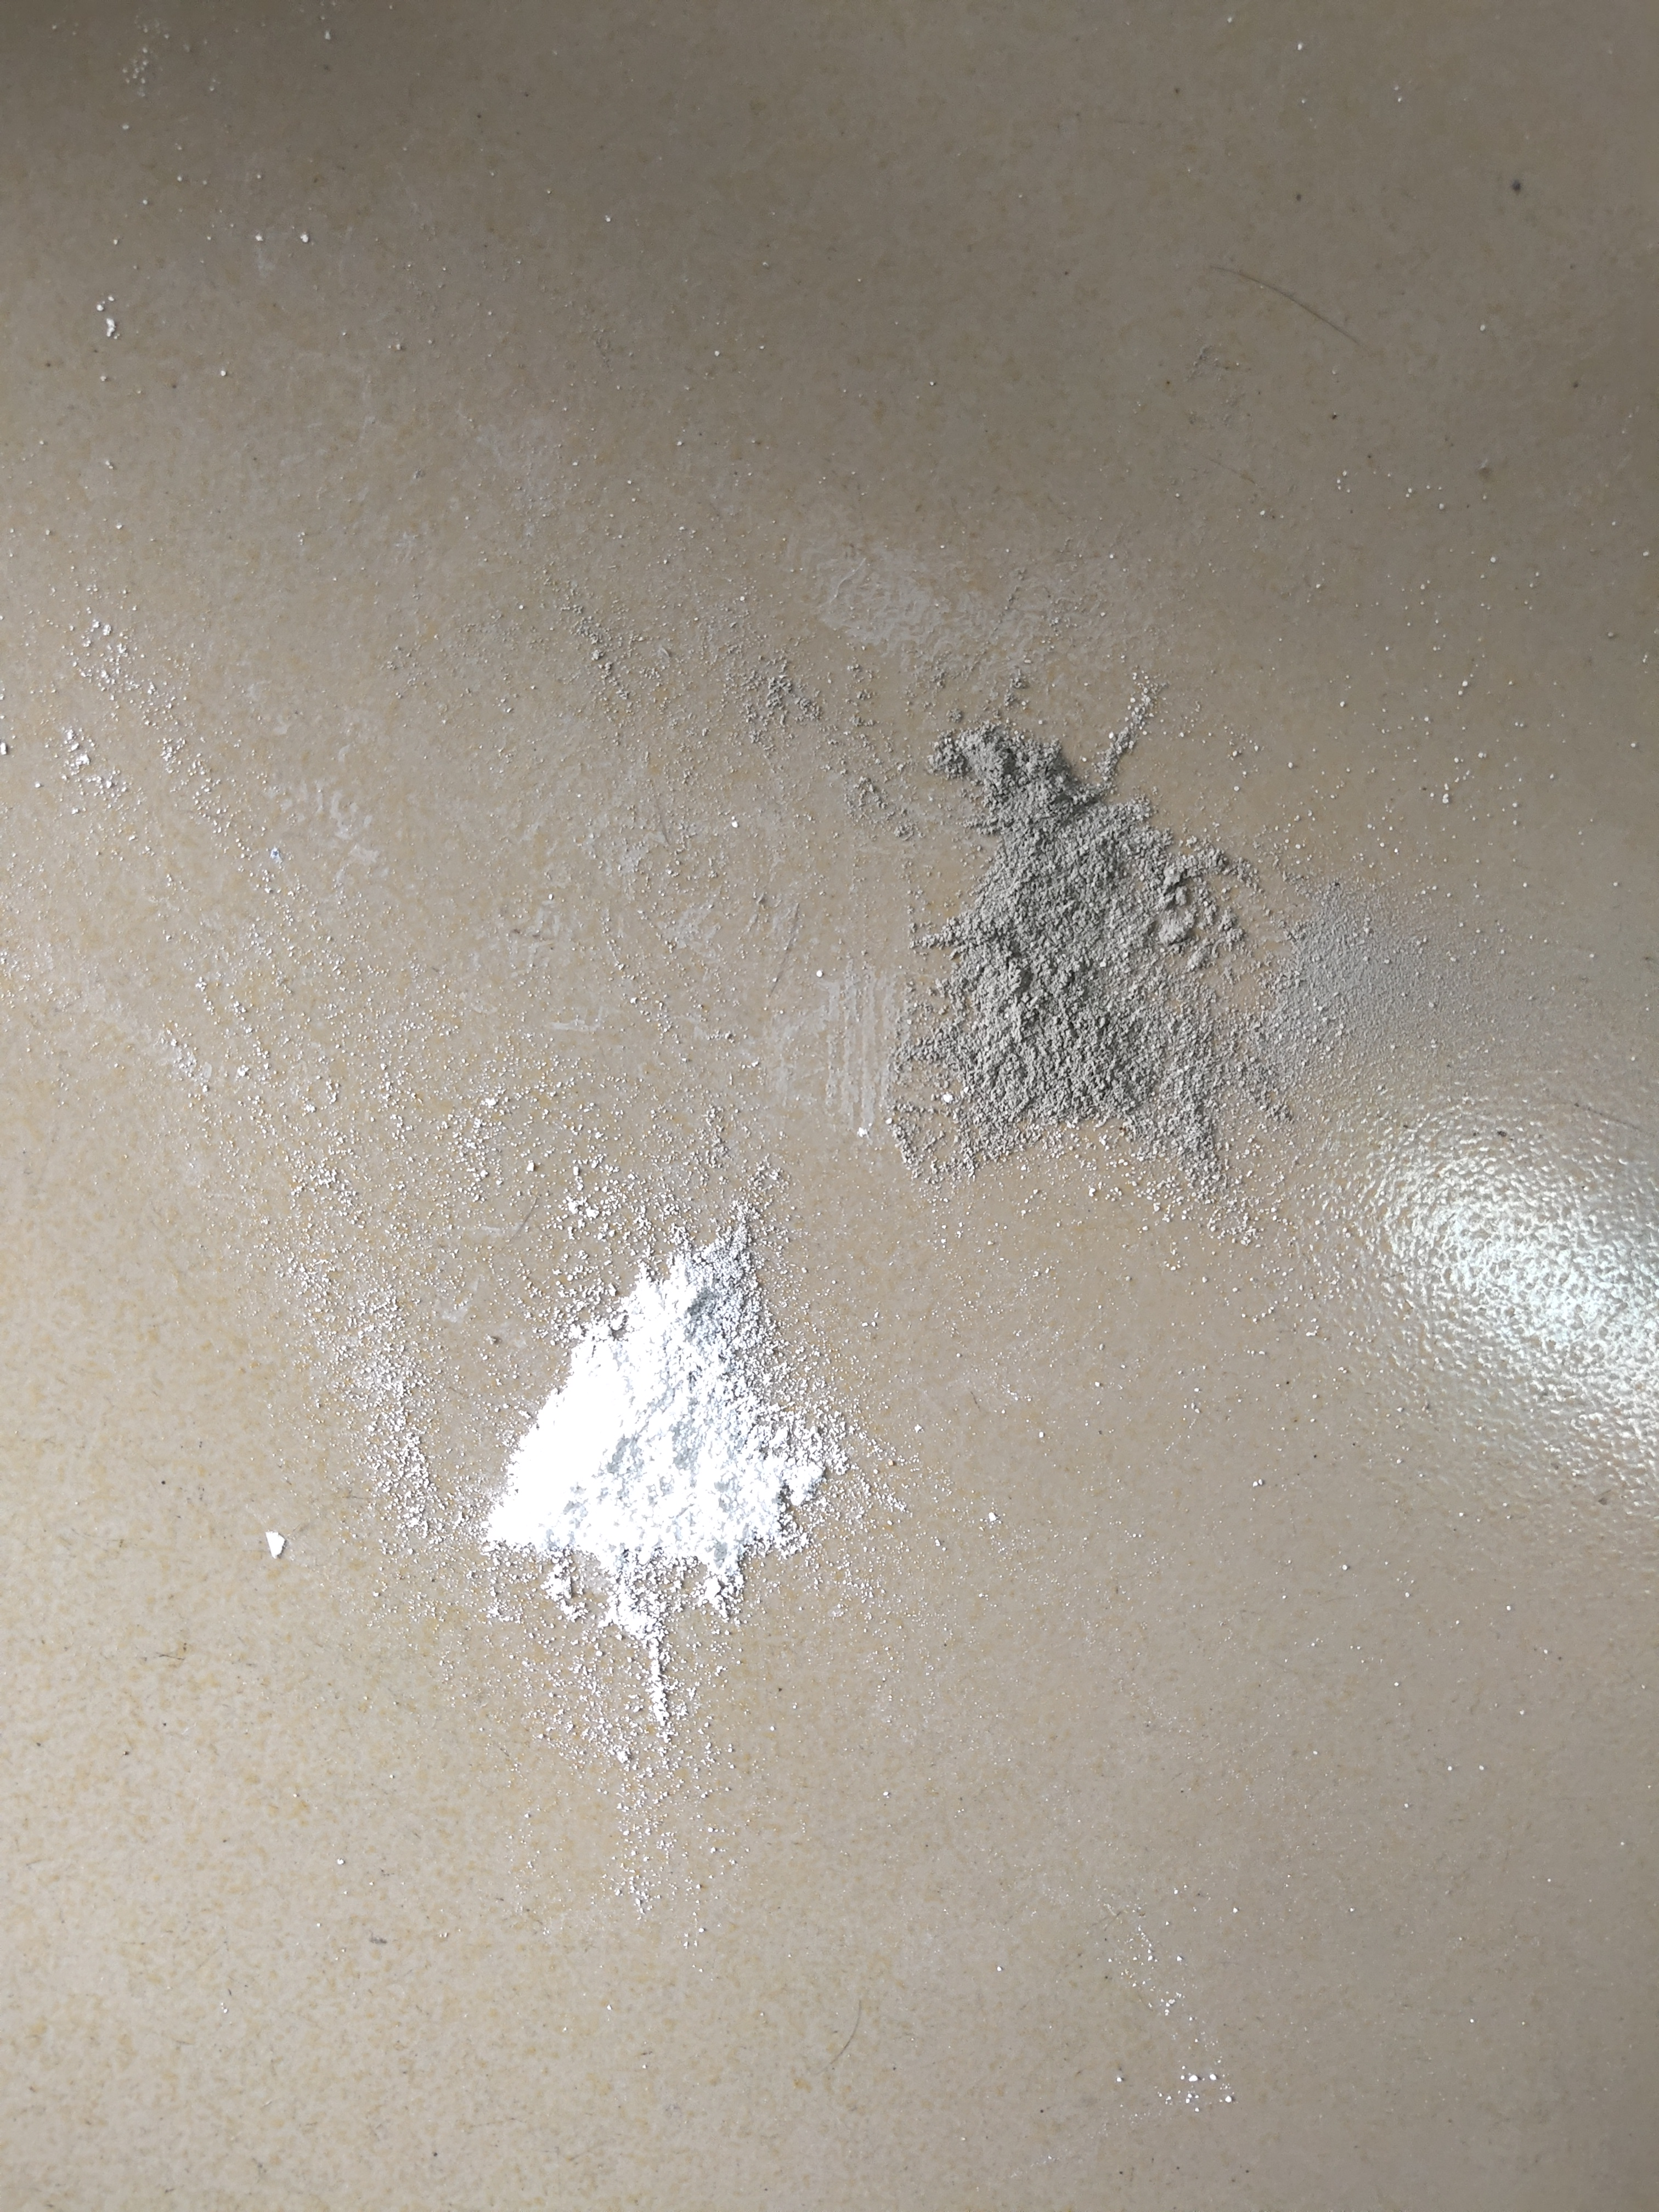ash pile: (455, 1191, 877, 1738), (897, 719, 1307, 1209)
reflection: (1364, 1111, 1659, 1451)
